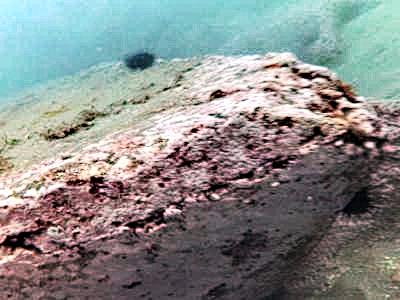urchin: (341, 185, 373, 217), (124, 51, 153, 69)
